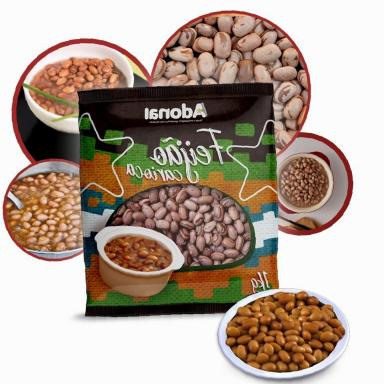beans package: (80, 84, 278, 315)
